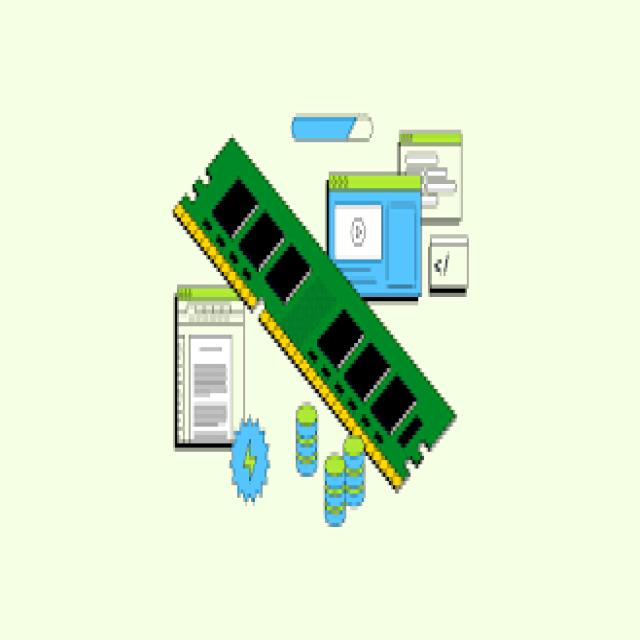Ram: (130, 126, 550, 544)
